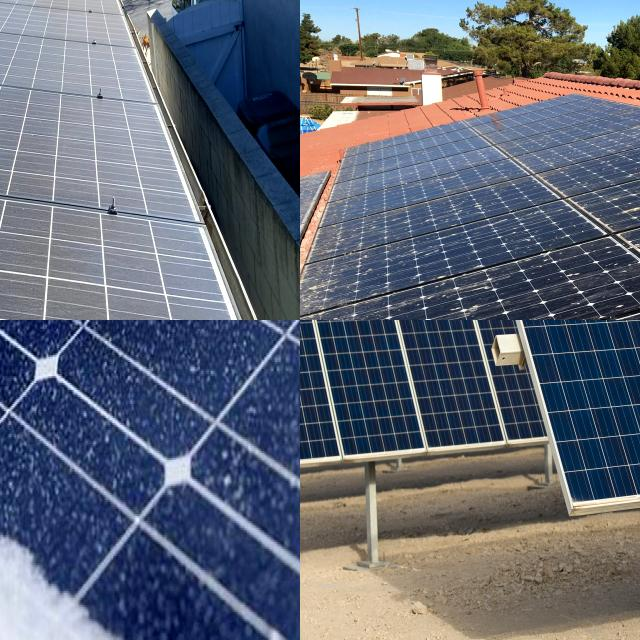crack: (475, 320, 640, 547), (300, 320, 435, 501), (372, 320, 515, 487), (300, 320, 362, 494)
dust: (0, 120, 167, 190), (0, 207, 156, 276), (9, 282, 213, 320), (336, 190, 404, 292), (0, 86, 57, 178), (0, 183, 74, 250), (454, 288, 604, 320), (44, 43, 136, 90), (0, 32, 49, 73), (0, 110, 31, 169), (0, 13, 41, 53), (0, 70, 24, 107)
panel: (0, 487, 69, 640), (70, 563, 188, 640), (0, 411, 46, 598), (0, 320, 42, 437), (0, 328, 35, 468)
